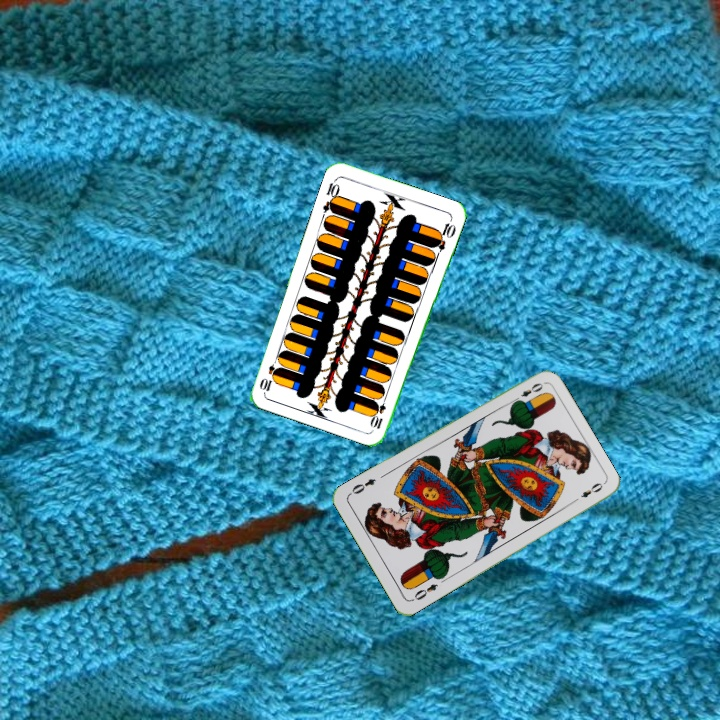E10: (318, 175, 342, 215), (368, 391, 389, 432)
EO: (509, 379, 546, 405), (408, 580, 440, 604)
